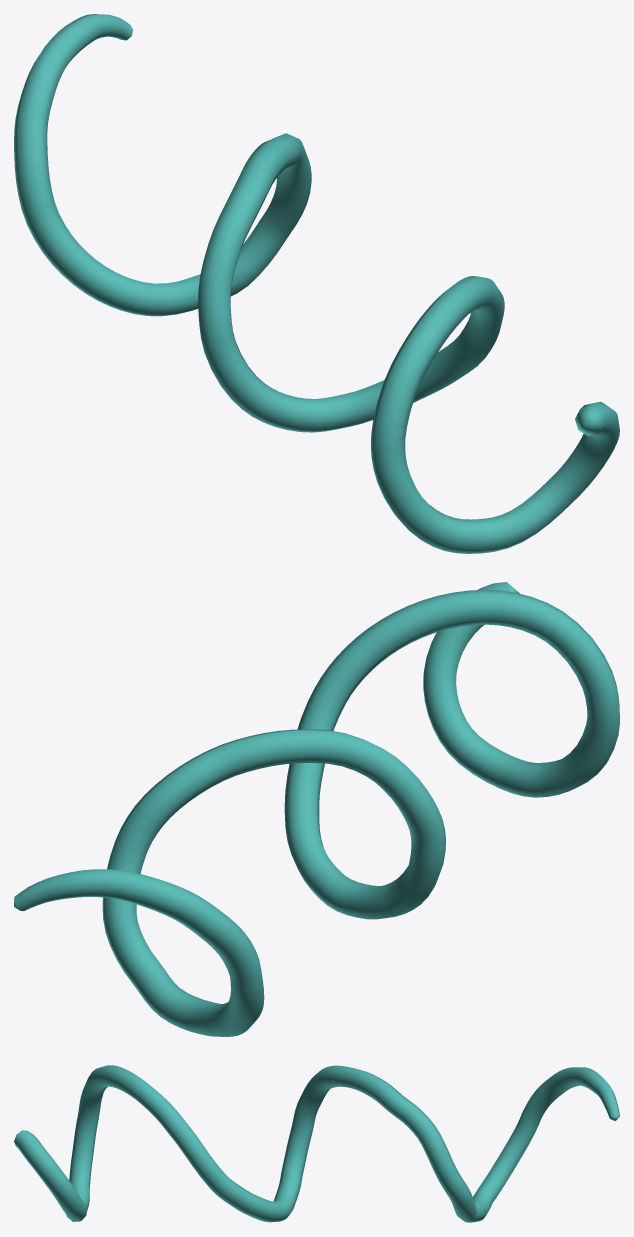
3 views of the same model, one above another, from view 1: azimuth 30°, elevation 25°; view 2: azimuth 150°, elevation 25°; view 3: azimuth 270°, elevation 25° (orthographic). The views are drawn at different scales.
Visible parts, largest first — view 1: brush_Disco_g0_b0; view 2: brush_Disco_g0_b0; view 3: brush_Disco_g0_b0.
Boxes of the visible parts, <box> form: brush_Disco_g0_b0: <box>14,14,619,553</box>; brush_Disco_g0_b0: <box>14,582,619,1036</box>; brush_Disco_g0_b0: <box>14,1065,619,1222</box>.
Bounding box in the file's own units: 1.15 × 1.15 × 4.41.
